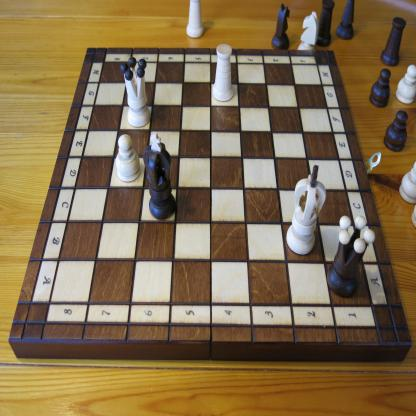black-bishop: (335, 0, 356, 41)
black-king: (142, 132, 177, 220)
black-knight: (271, 3, 290, 50)
black-pawn: (383, 110, 408, 153), (369, 68, 391, 109)
black-queen: (326, 215, 376, 298)
black-rook: (380, 17, 407, 68), (315, 0, 336, 48)
white-king: (286, 164, 326, 256)
white-knight: (297, 10, 319, 51)
white-pawn: (115, 134, 141, 182), (395, 64, 415, 106), (398, 161, 416, 205)
white-queen: (120, 56, 151, 128)
white-rook: (212, 43, 234, 102), (186, 0, 204, 39)
